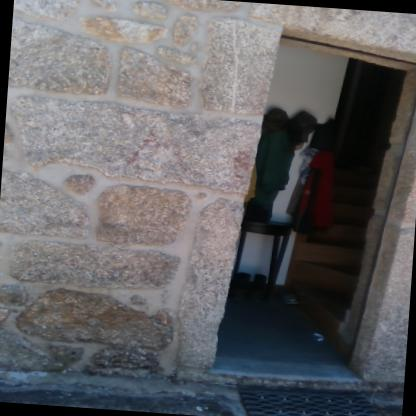semi: (236, 30, 415, 396)
